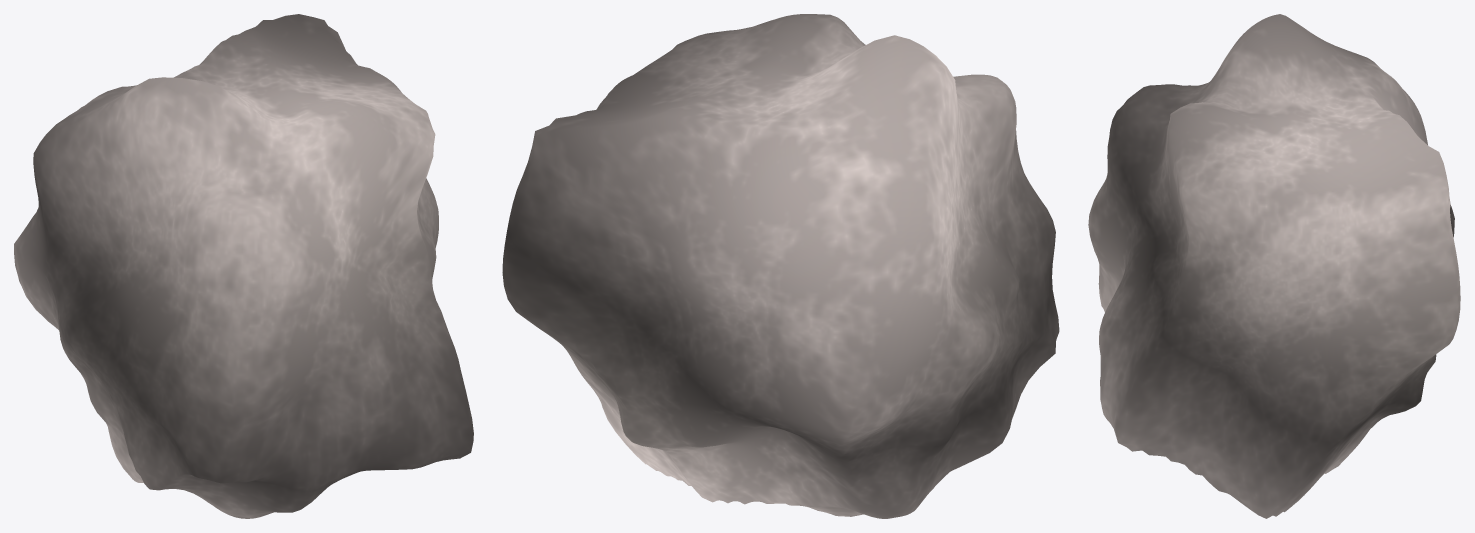
File: asteroid-spire.glb
3 views of the same model, side by side, from view 1: azimuth 30°, elevation 25°; view 2: azimuth 150°, elevation 25°; view 3: azimuth 270°, elevation 25° (orthographic). The views are drawn at different scales.
Visible parts, largest first — view 1: asteroid_5003; view 2: asteroid_5003; view 3: asteroid_5003.
Part boxes in pixels (<box>): asteroid_5003: <box>14,14,473,518</box>; asteroid_5003: <box>502,14,1059,518</box>; asteroid_5003: <box>1088,14,1460,518</box>.
Size of the model in its own units: 57.68 by 66.03 by 57.13.
Materials: 1 (1 with a texture image).
